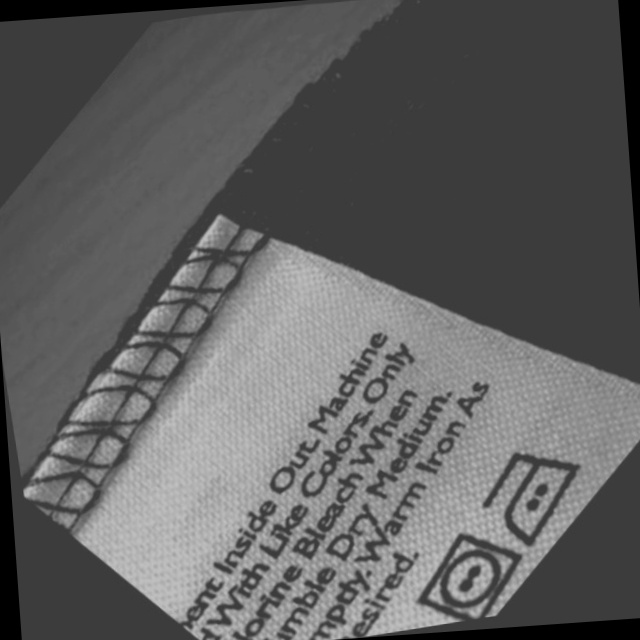iron_medium: (474, 438, 600, 554)
tumble_dry_medium: (408, 522, 536, 628)
